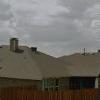Chimney: (6, 31, 19, 59)
